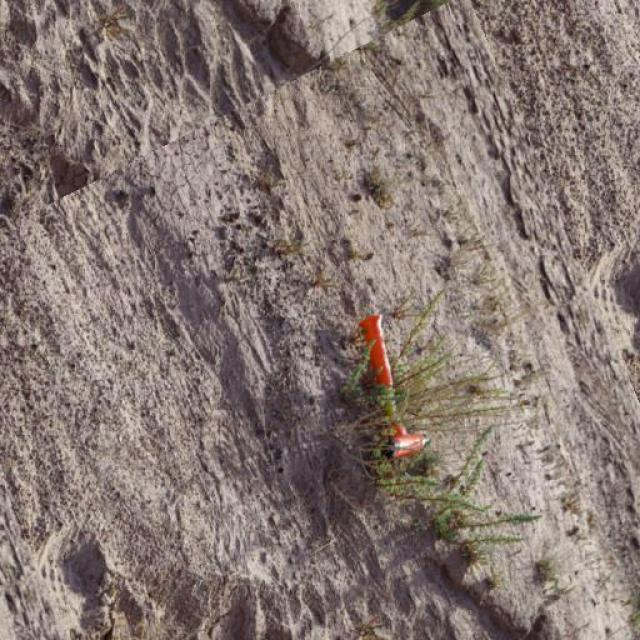mallet: (358, 312, 432, 460)
